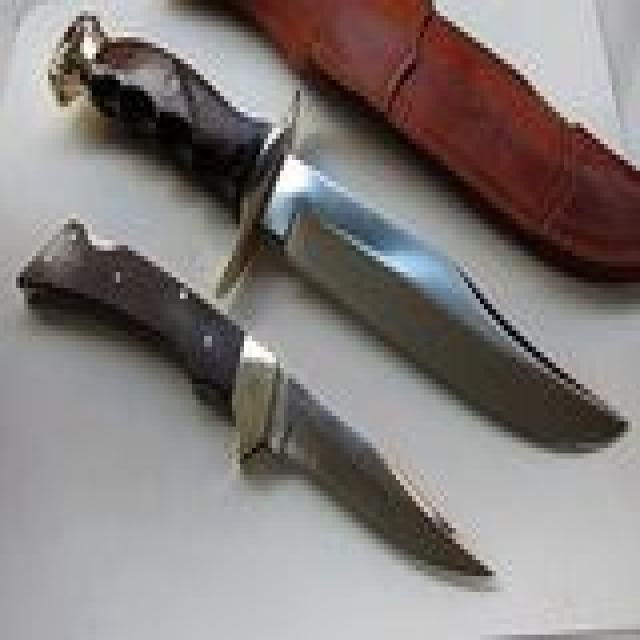Knife: (27, 22, 624, 591)
